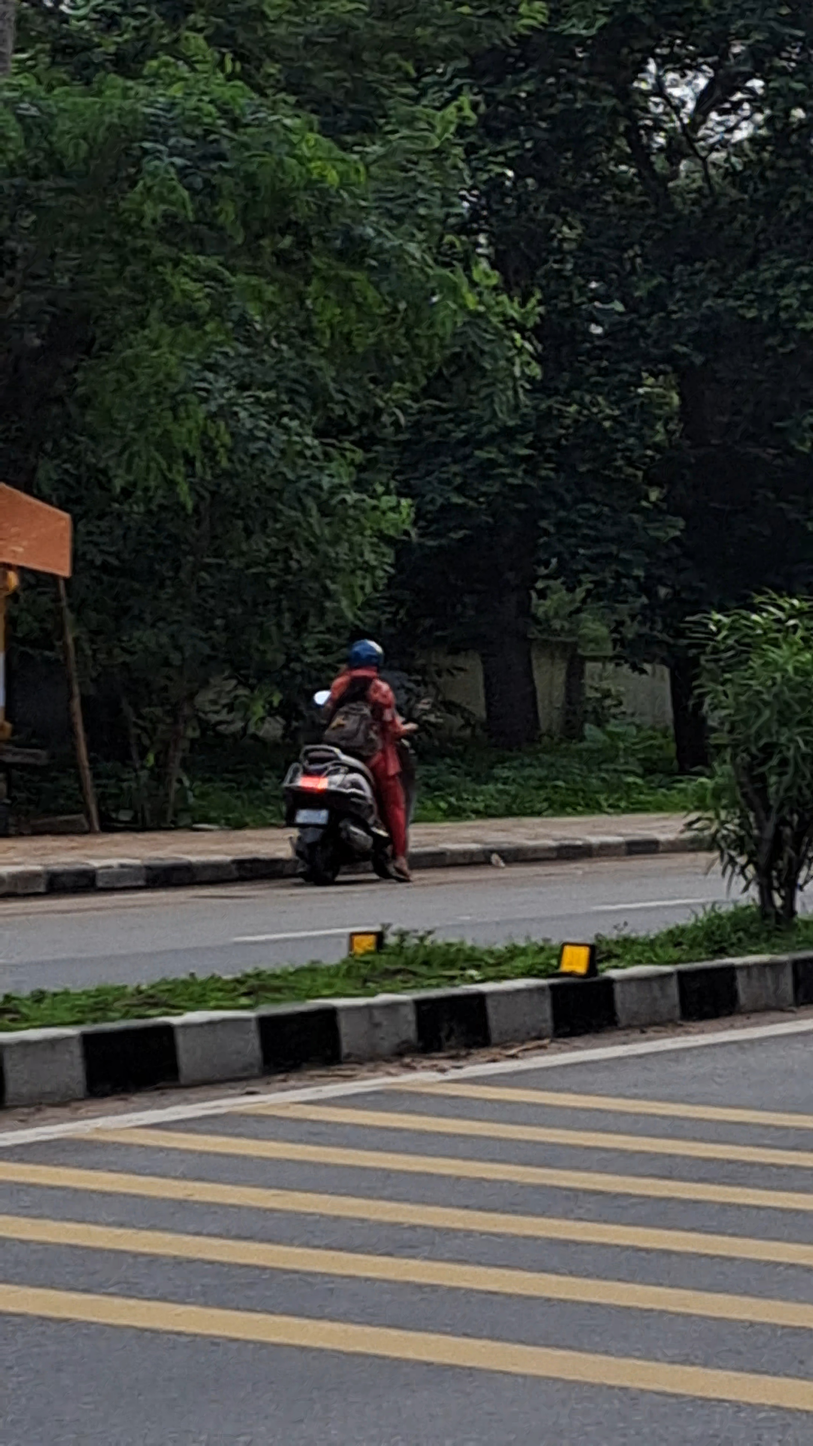BikeWithRider: (269, 630, 431, 893)
Helmet: (337, 633, 391, 677)
